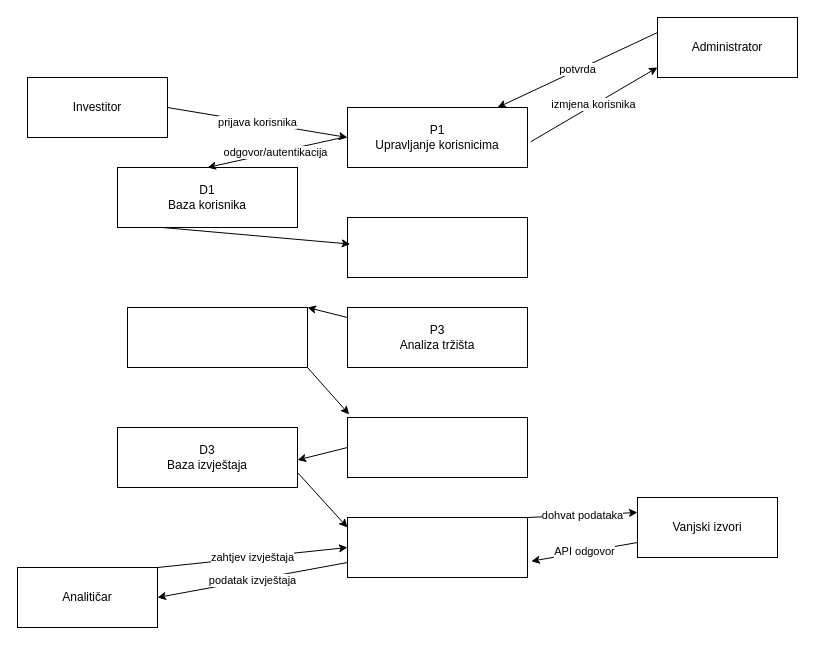
Some shapes in this 815 by 645 pixel diagram are drawn without their labels. Each missing label, with the box of its shape:
D2 Baza tržišnih podataka: (126, 306, 308, 368)
P2 Praćenje tržišta: (346, 216, 528, 278)
P4 Upravljanje podacima: (346, 416, 528, 478)
P5 Izvještaji i preporuke: (346, 516, 528, 578)
